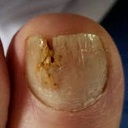Nail Fungal Infection: (32, 31, 69, 89)
